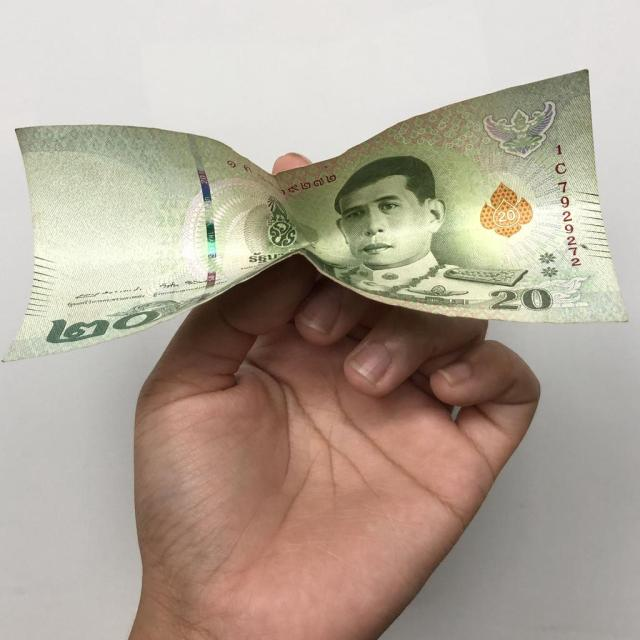THAI20: (3, 71, 626, 361)
